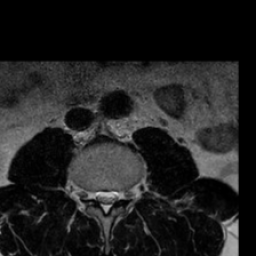CCS_normal: (102, 180, 109, 223)
LFS_normal: (118, 178, 126, 206)
LLS_normal: (109, 180, 118, 209)
RFS_normal: (86, 180, 94, 207)
RLS_normal: (94, 180, 102, 208)
